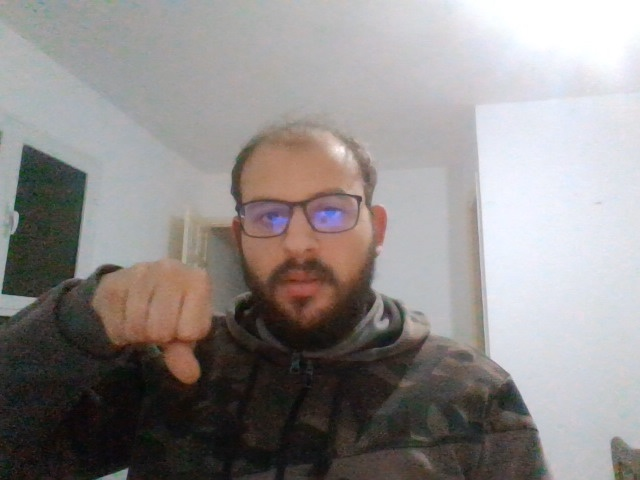Yes: (96, 263, 209, 382)
